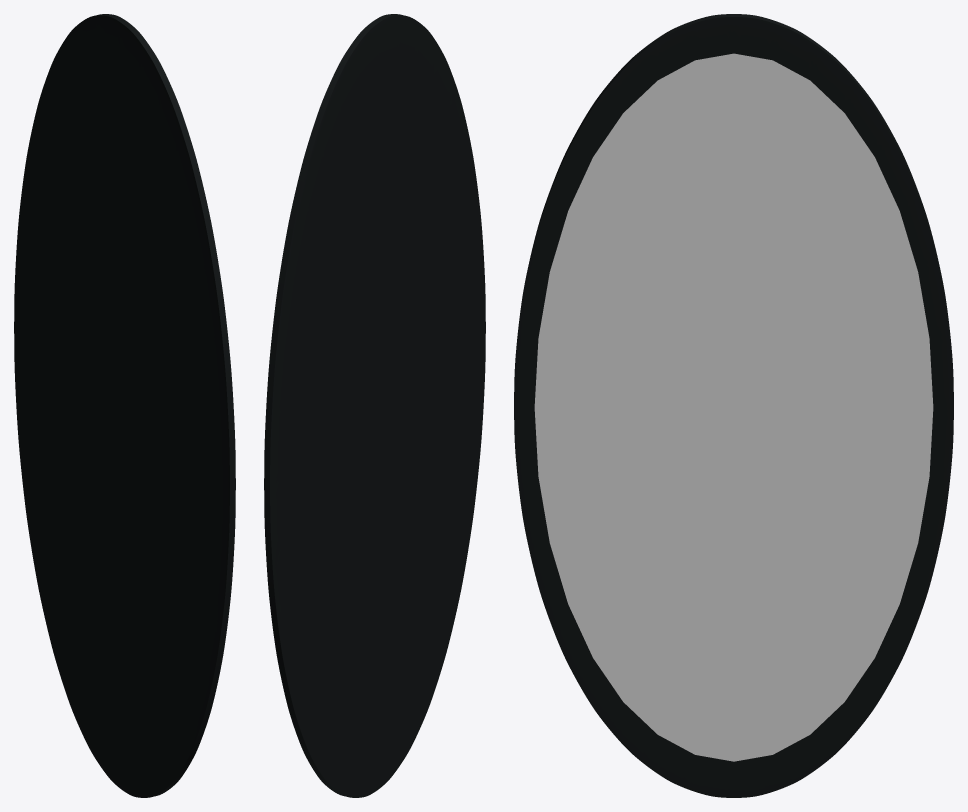
The model's file is MirrorV2.fbx.
The picture shows the model from 3 angles, left to right: view 1: azimuth 30°, elevation 25°; view 2: azimuth 150°, elevation 25°; view 3: azimuth 270°, elevation 25°; orthographic projection.
Parts seen in each view (by area): view 1: Cylinder; view 2: Cylinder; view 3: Cylinder.
Boxes of the visible parts, box(x1,y1,x2,y2) form: Cylinder: box(14, 14, 235, 797); Cylinder: box(264, 14, 485, 797); Cylinder: box(514, 14, 953, 797).
Size of the model in its own units: 407 by 7.12 by 797.
